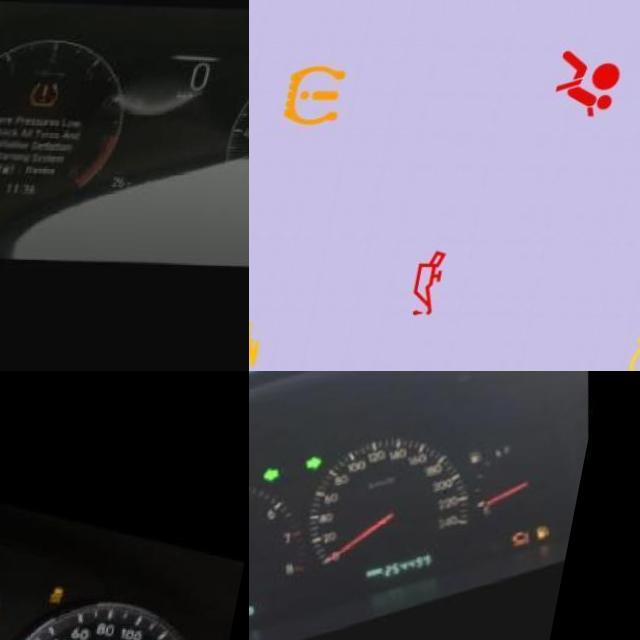Low fuel level: (545, 516, 563, 535), (474, 443, 492, 459)
